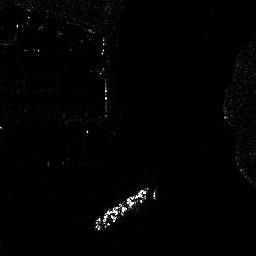ship: (93, 184, 148, 230)
